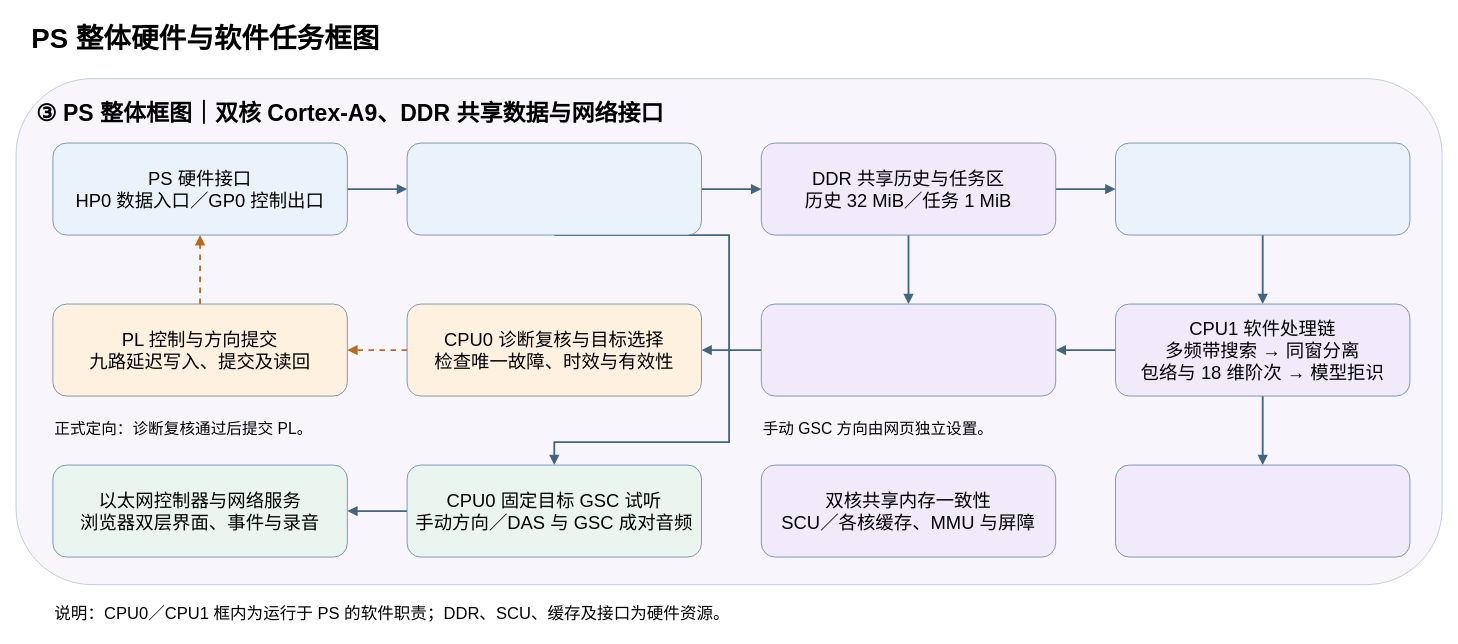
Some shapes in this 1458 by 644 pixel diagram are drawn without their labels. The centre of each missing label's shape, as x and y in pixels:
"Cortex-A9 CPU0 接收校验、历史与轨迹维护" belongs at (554,188).
"Cortex-A9 CPU1 搜索、同窗分离与故障分析" belongs at (1262,188).
"CPU1 独占 DDR 工作区 频谱、协方差与整窗音频" belongs at (1262,510).
"固定快照与任务／结果交接 采样区间、轨迹、采集代次绑定" belongs at (908,349).
